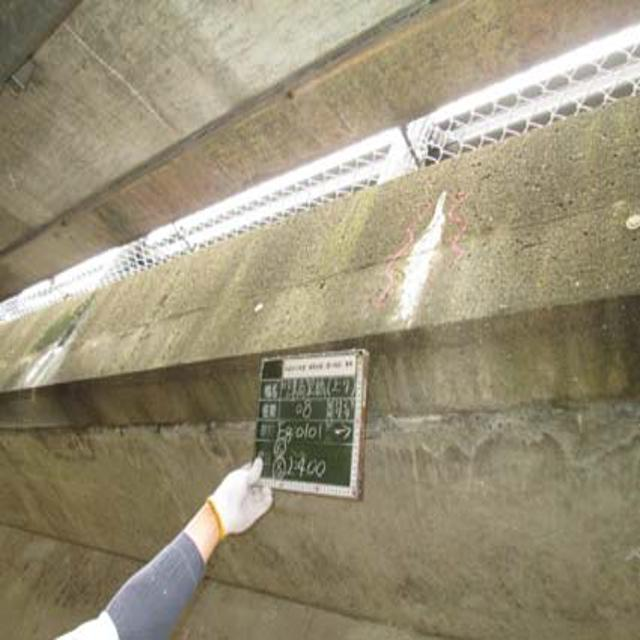freelime: (377, 191, 457, 326), (17, 333, 76, 394)
